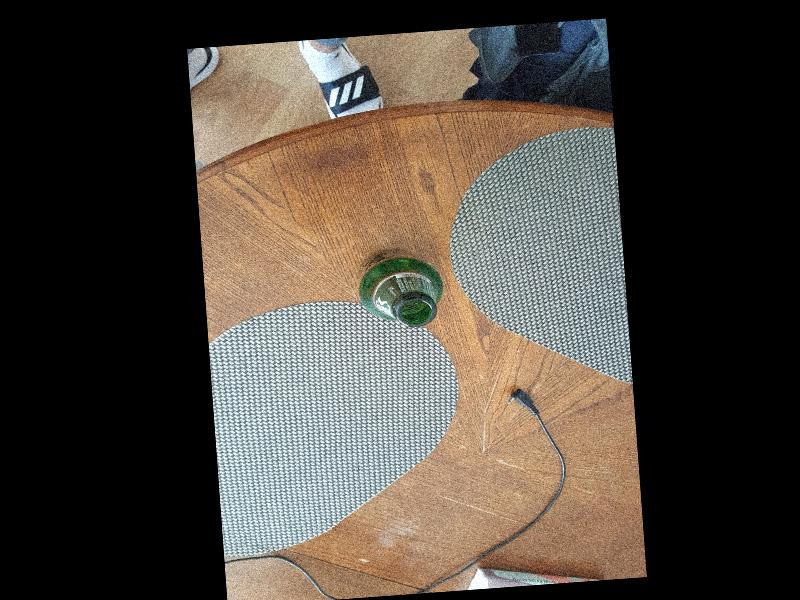Beer: (356, 246, 446, 330)
